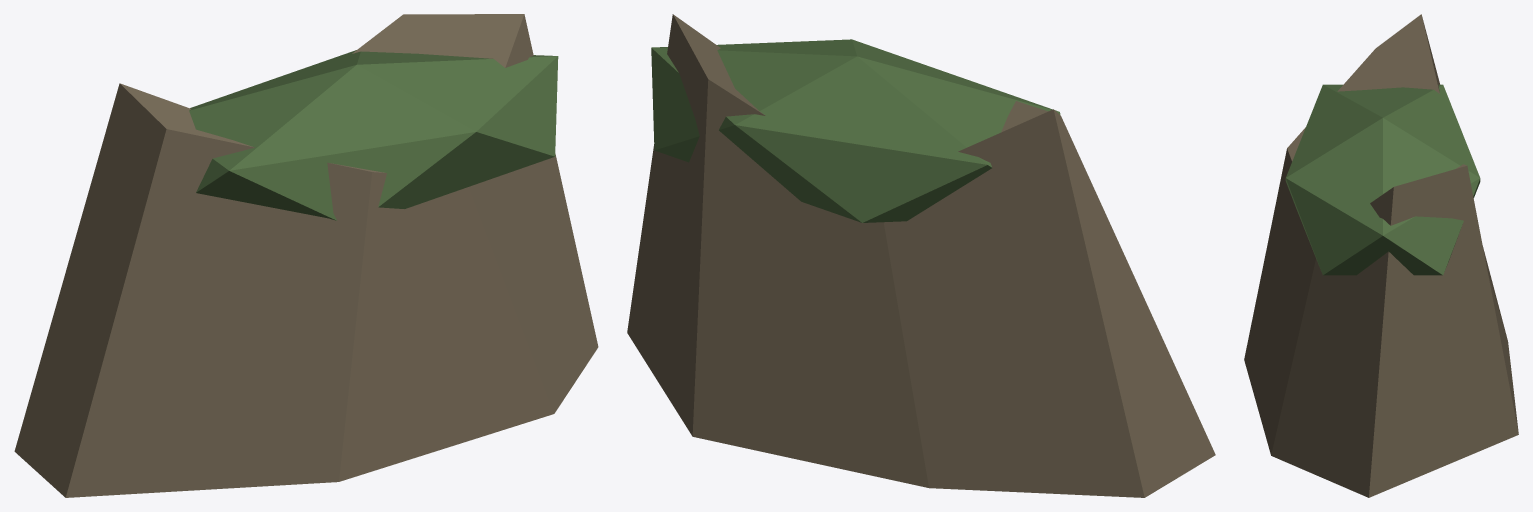
The model's file is map-boundaries-v5__village_07.glb.
3 views of the same model, side by side, from view 1: azimuth 30°, elevation 25°; view 2: azimuth 150°, elevation 25°; view 3: azimuth 270°, elevation 25° (orthographic). The views are drawn at different scales.
Parts seen in each view (by area): view 1: village_07; view 2: village_07; view 3: village_07.
Part boxes in pixels (<box>): village_07: <box>14,14,598,497</box>; village_07: <box>627,14,1215,497</box>; village_07: <box>1244,14,1518,497</box>.
Bounding box in the file's own units: 1.43 × 0.8627 × 0.7206.
